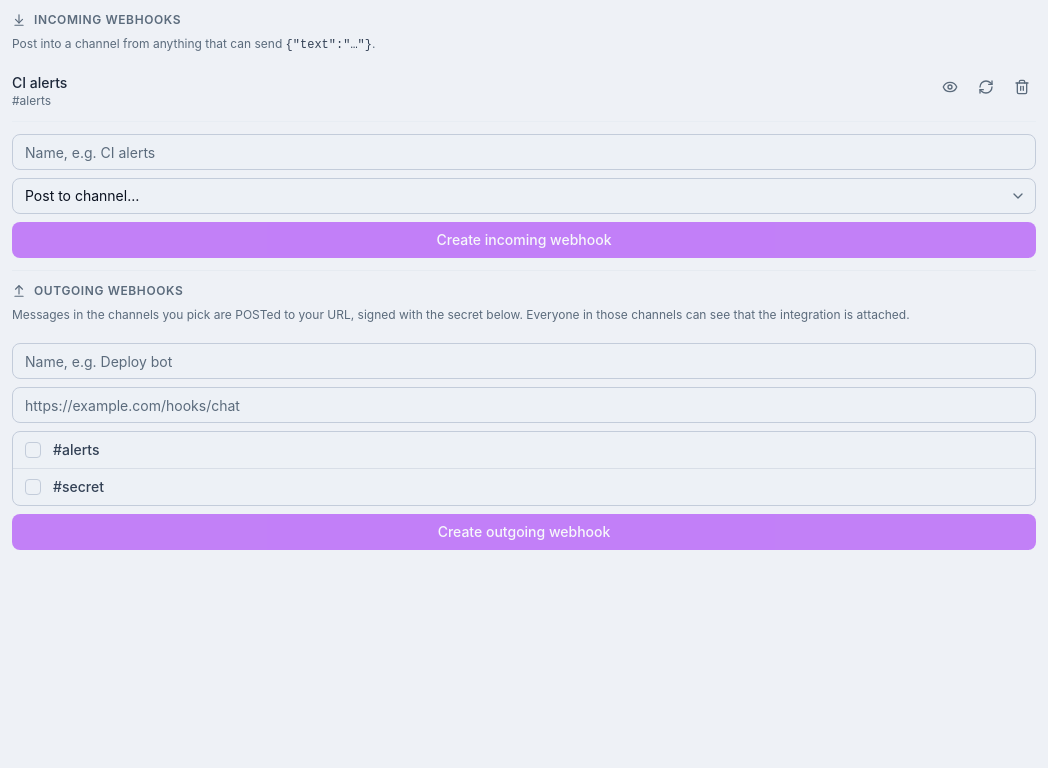
IntegrationsSection › keeps credentials hidden until the admin asks to reveal them
Click the button with test id "hook-reveal": x=950, y=87 [936, 73, 964, 101]
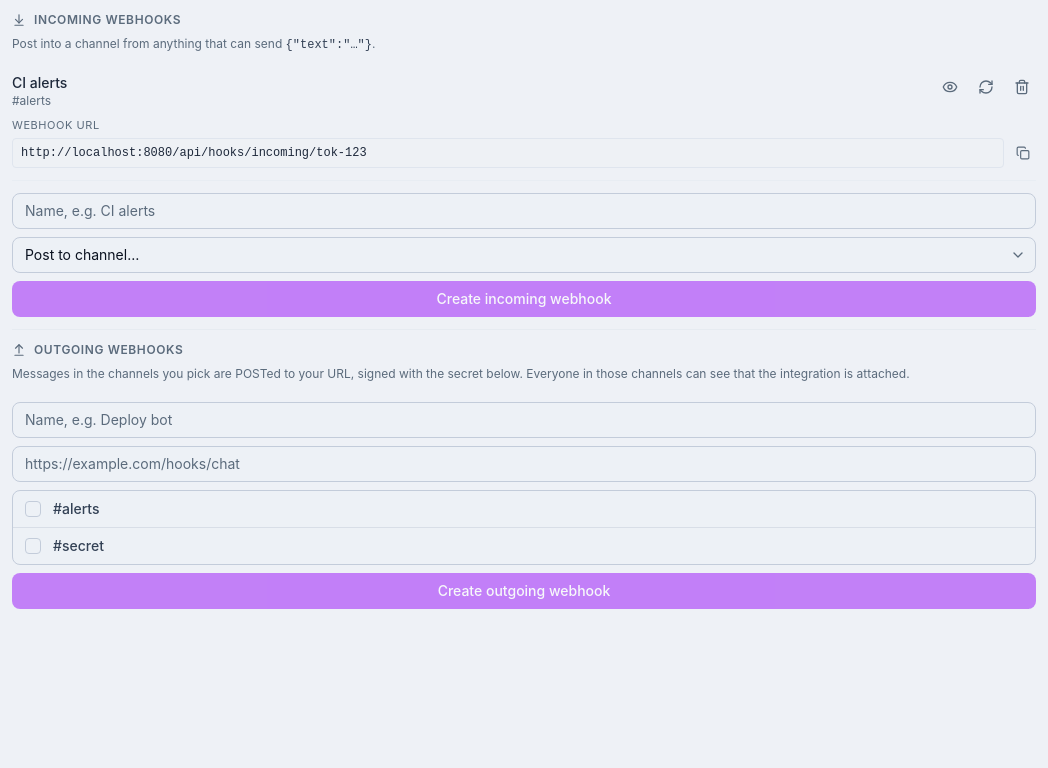
Result: the element with test id "hook-secrets" is shown at [12, 117, 1036, 168]
